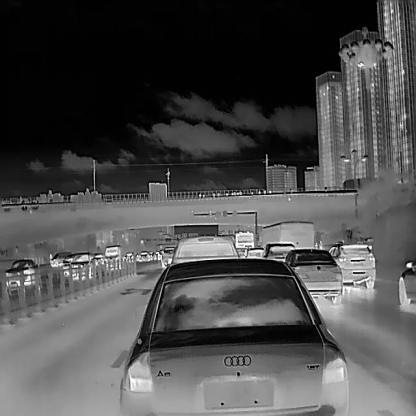car: (118, 258, 348, 415), (284, 247, 342, 302), (328, 242, 375, 288), (260, 219, 314, 250), (4, 258, 40, 288), (397, 258, 415, 313), (68, 250, 94, 278), (233, 230, 255, 257), (103, 245, 122, 270), (49, 250, 70, 266), (160, 246, 175, 268), (138, 250, 149, 261)
